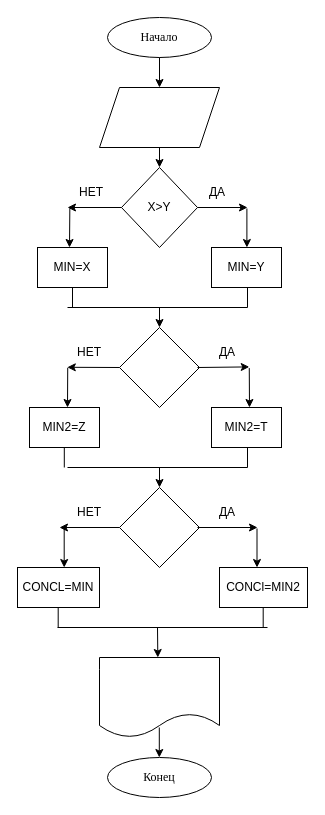
Some shapes in this 325 by 815 pixel diagram are drawn without their labels. The shapes that lost their labels are listed below. From the top down, each one's box as (x1, y1, x2, y2) in pixels, then its label:
(98, 86, 220, 148): X, Y, Z, T
(118, 326, 200, 408): Z>T
(118, 486, 200, 568): MIN>MIN2
(98, 656, 220, 738): CONCL
